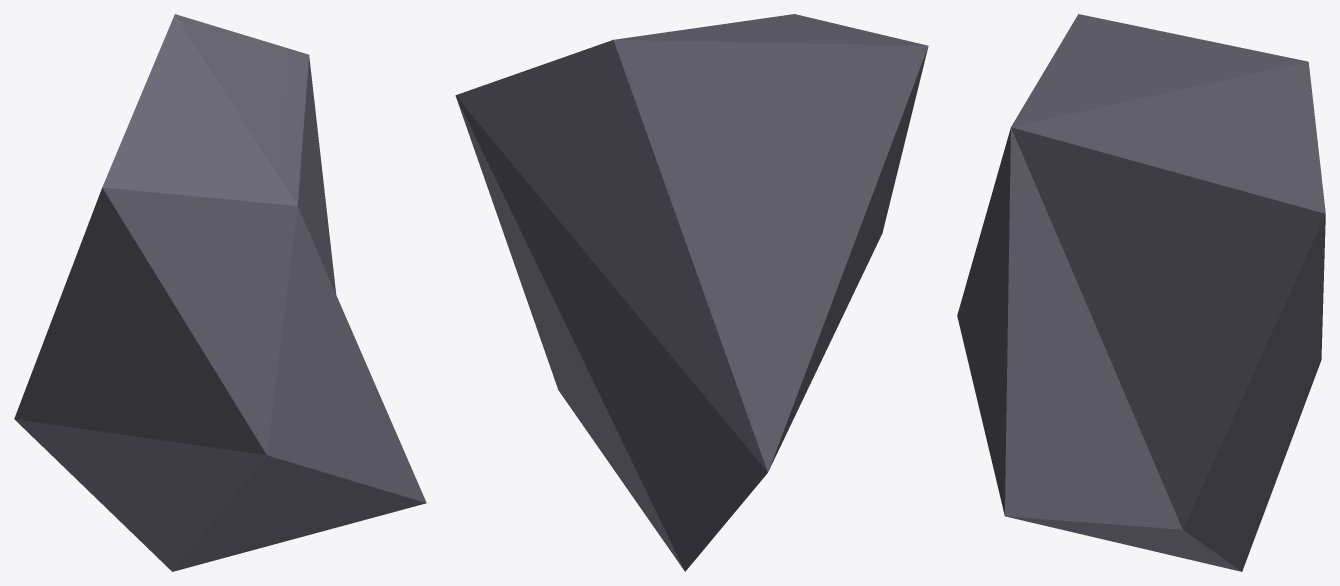
File: smallrock4.fbx
The picture shows the model from 3 angles, left to right: view 1: azimuth 30°, elevation 25°; view 2: azimuth 150°, elevation 25°; view 3: azimuth 270°, elevation 25°; orthographic projection. The views are drawn at different scales.
Parts seen in each view (by area): view 1: rock.003; view 2: rock.003; view 3: rock.003.
Boxes of the visible parts, left/top/right/bottom form: rock.003: left=14, top=14, right=426, bottom=571; rock.003: left=455, top=14, right=928, bottom=571; rock.003: left=957, top=14, right=1325, bottom=571.
Bounding box in the file's own units: 36.5 × 55.5 × 35.14.
